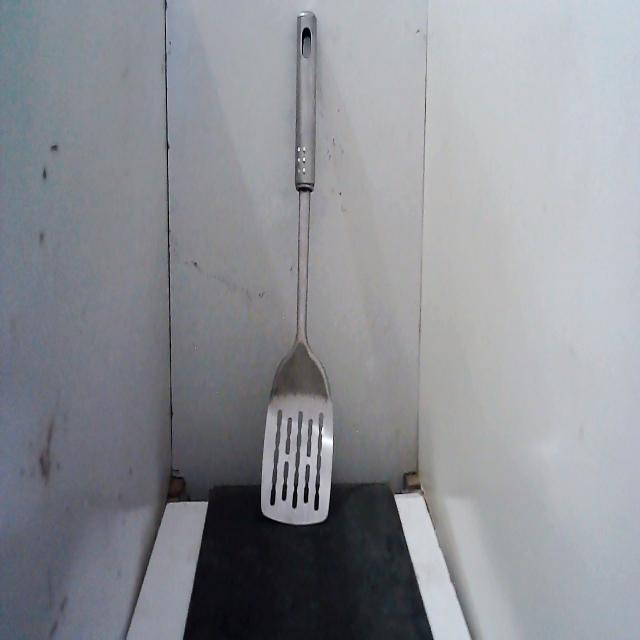metal: (253, 0, 341, 532)
